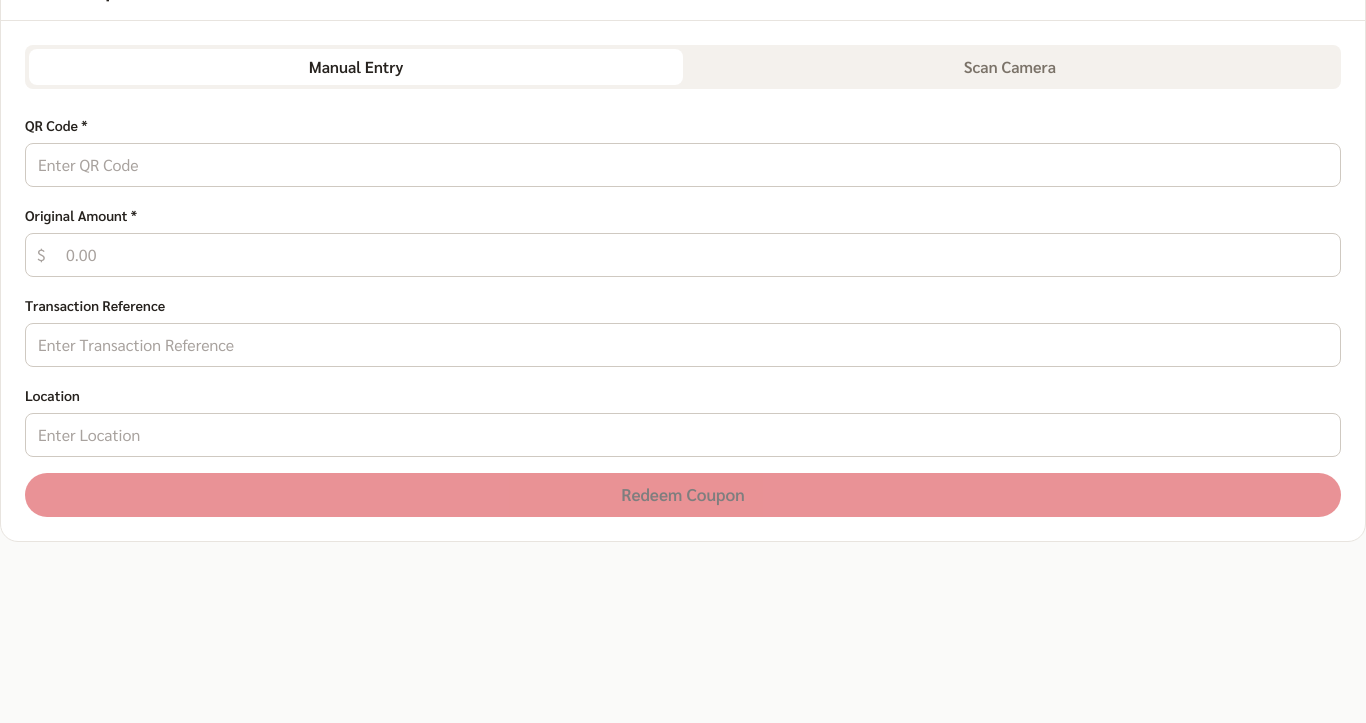
CouponScanner › Form Submission › should handle redemption error
Type "QR123456" into the field labelled "QR Code *" at (683, 165), box [25, 143, 1341, 187]
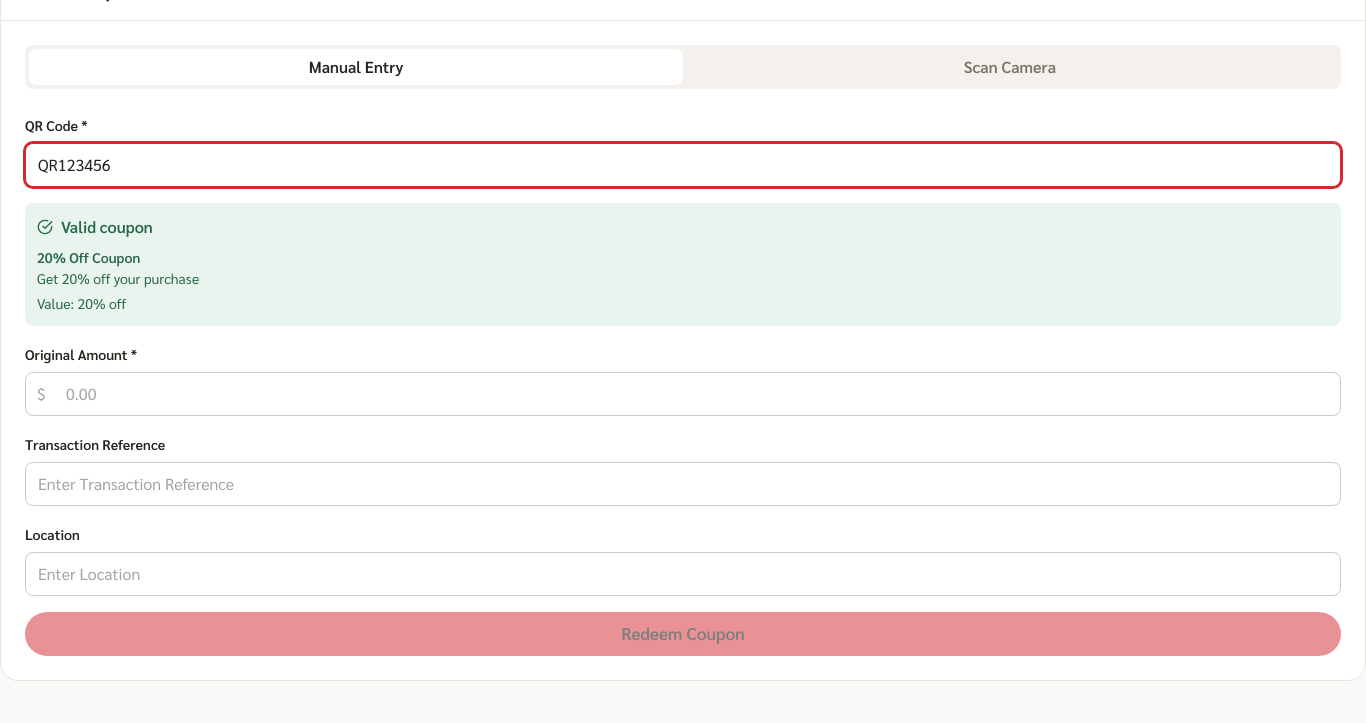
Check: the text "Valid coupon" is shown, box [61, 215, 153, 239]
Type "1000" into the number field labelled "Original Amount *" at (683, 394), box [25, 372, 1341, 416]
(page scrolled)
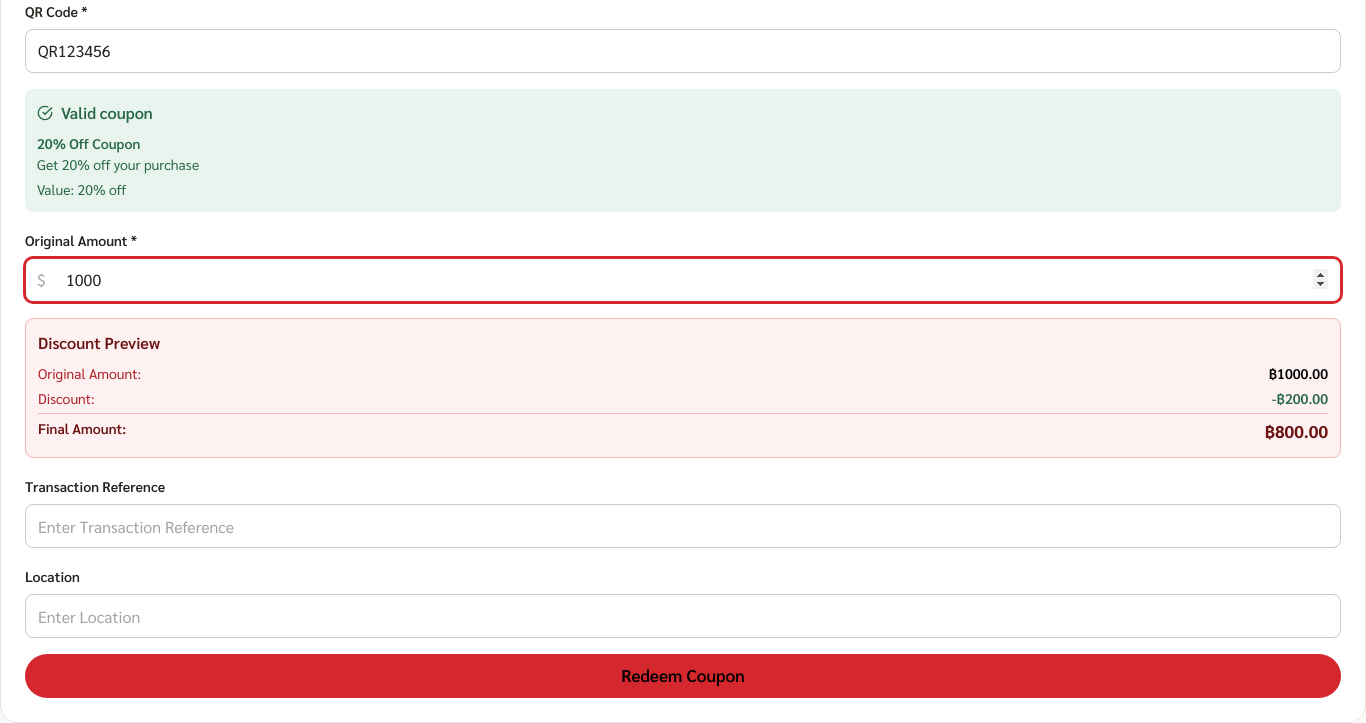
Click the button "Redeem Coupon" at (683, 676), box [25, 654, 1341, 698]
(page scrolled)
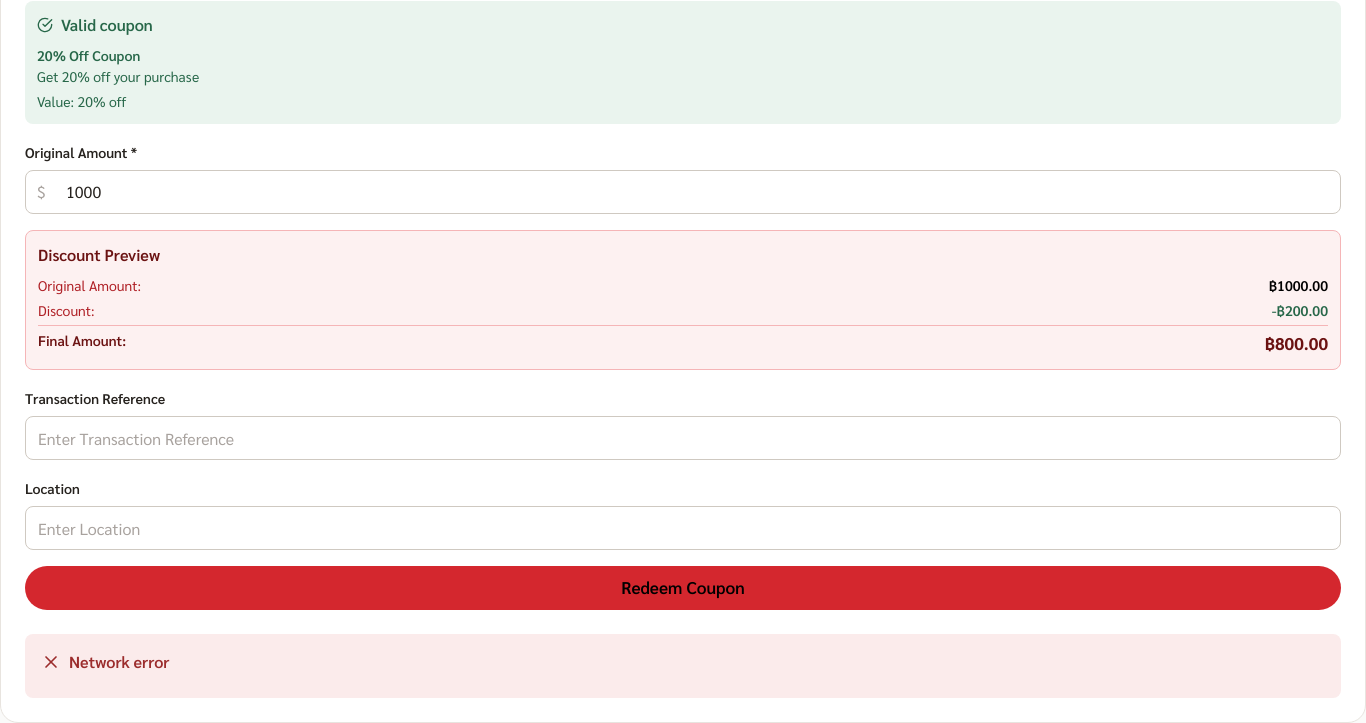
Check: the text "Network error" is shown, box [69, 650, 170, 674]
